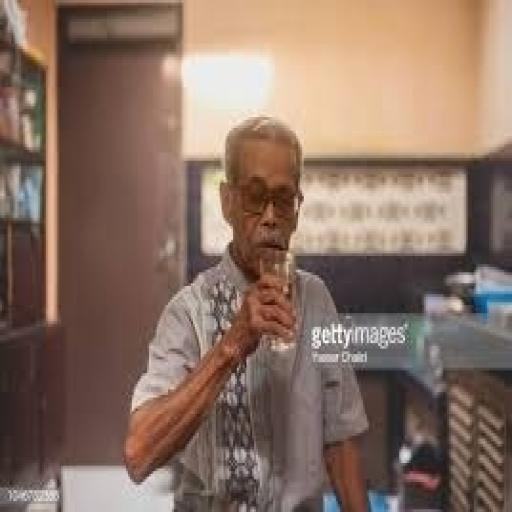drinking: (258, 248, 296, 351)
